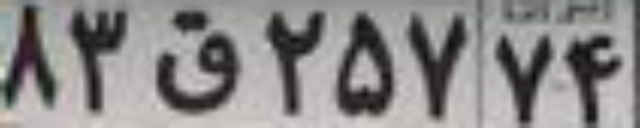2: (263, 8, 325, 116)
3: (67, 8, 131, 110)
4: (564, 34, 624, 124)
5: (333, 10, 398, 115)
7: (406, 9, 470, 118), (489, 31, 554, 122)
8: (1, 6, 59, 108)
ghaf: (151, 8, 242, 112)
